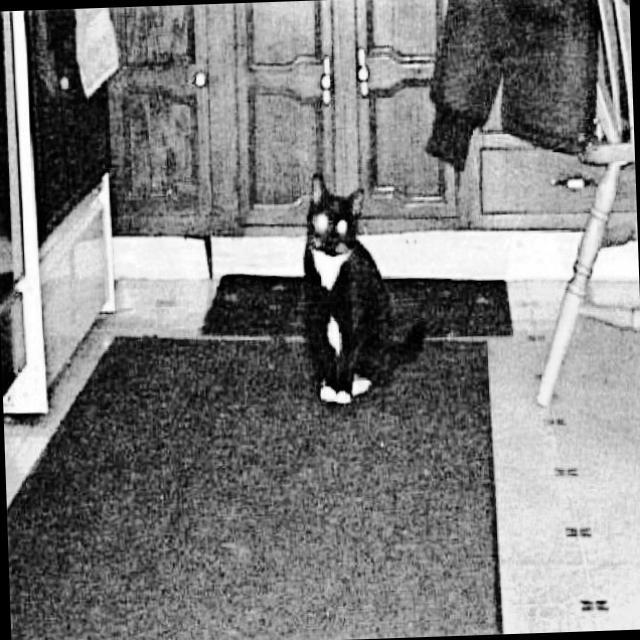Cat: (296, 162, 427, 412)
